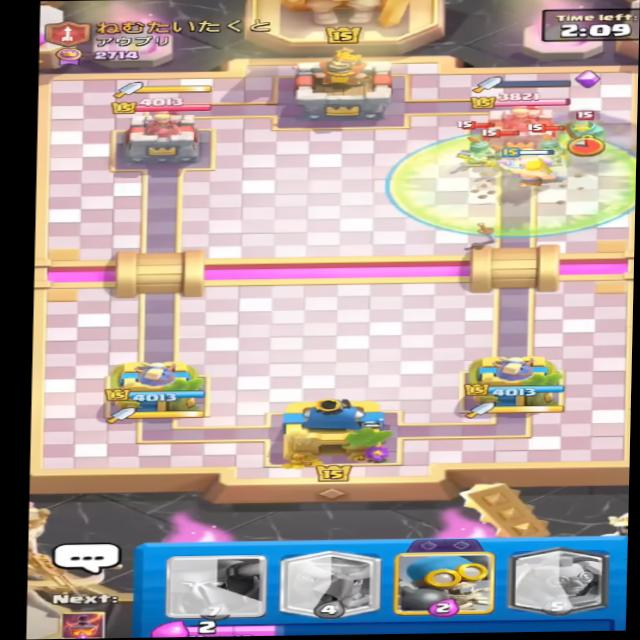guards: (459, 133, 501, 170)
knight: (559, 108, 610, 154)
